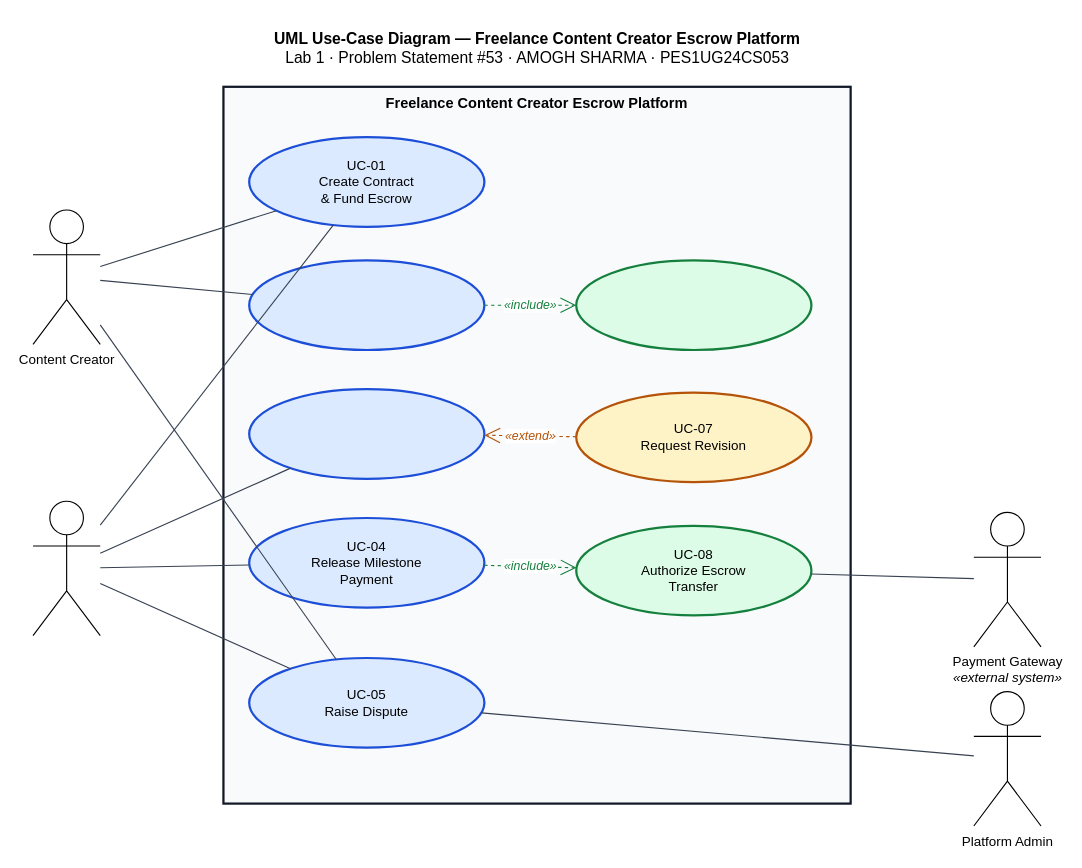
Some shapes in this 1082 by 868 pixel diagram are drawn without their labels. Here are the shapes that lost their labels. From the top down, the centre of each, then its label:
(366,305): UC-02 Upload Draft Deliverable
(693,305): UC-06 Apply Watermark
(366,433): UC-03 Review Draft & Sign Off
(66,568): Client Sponsor
